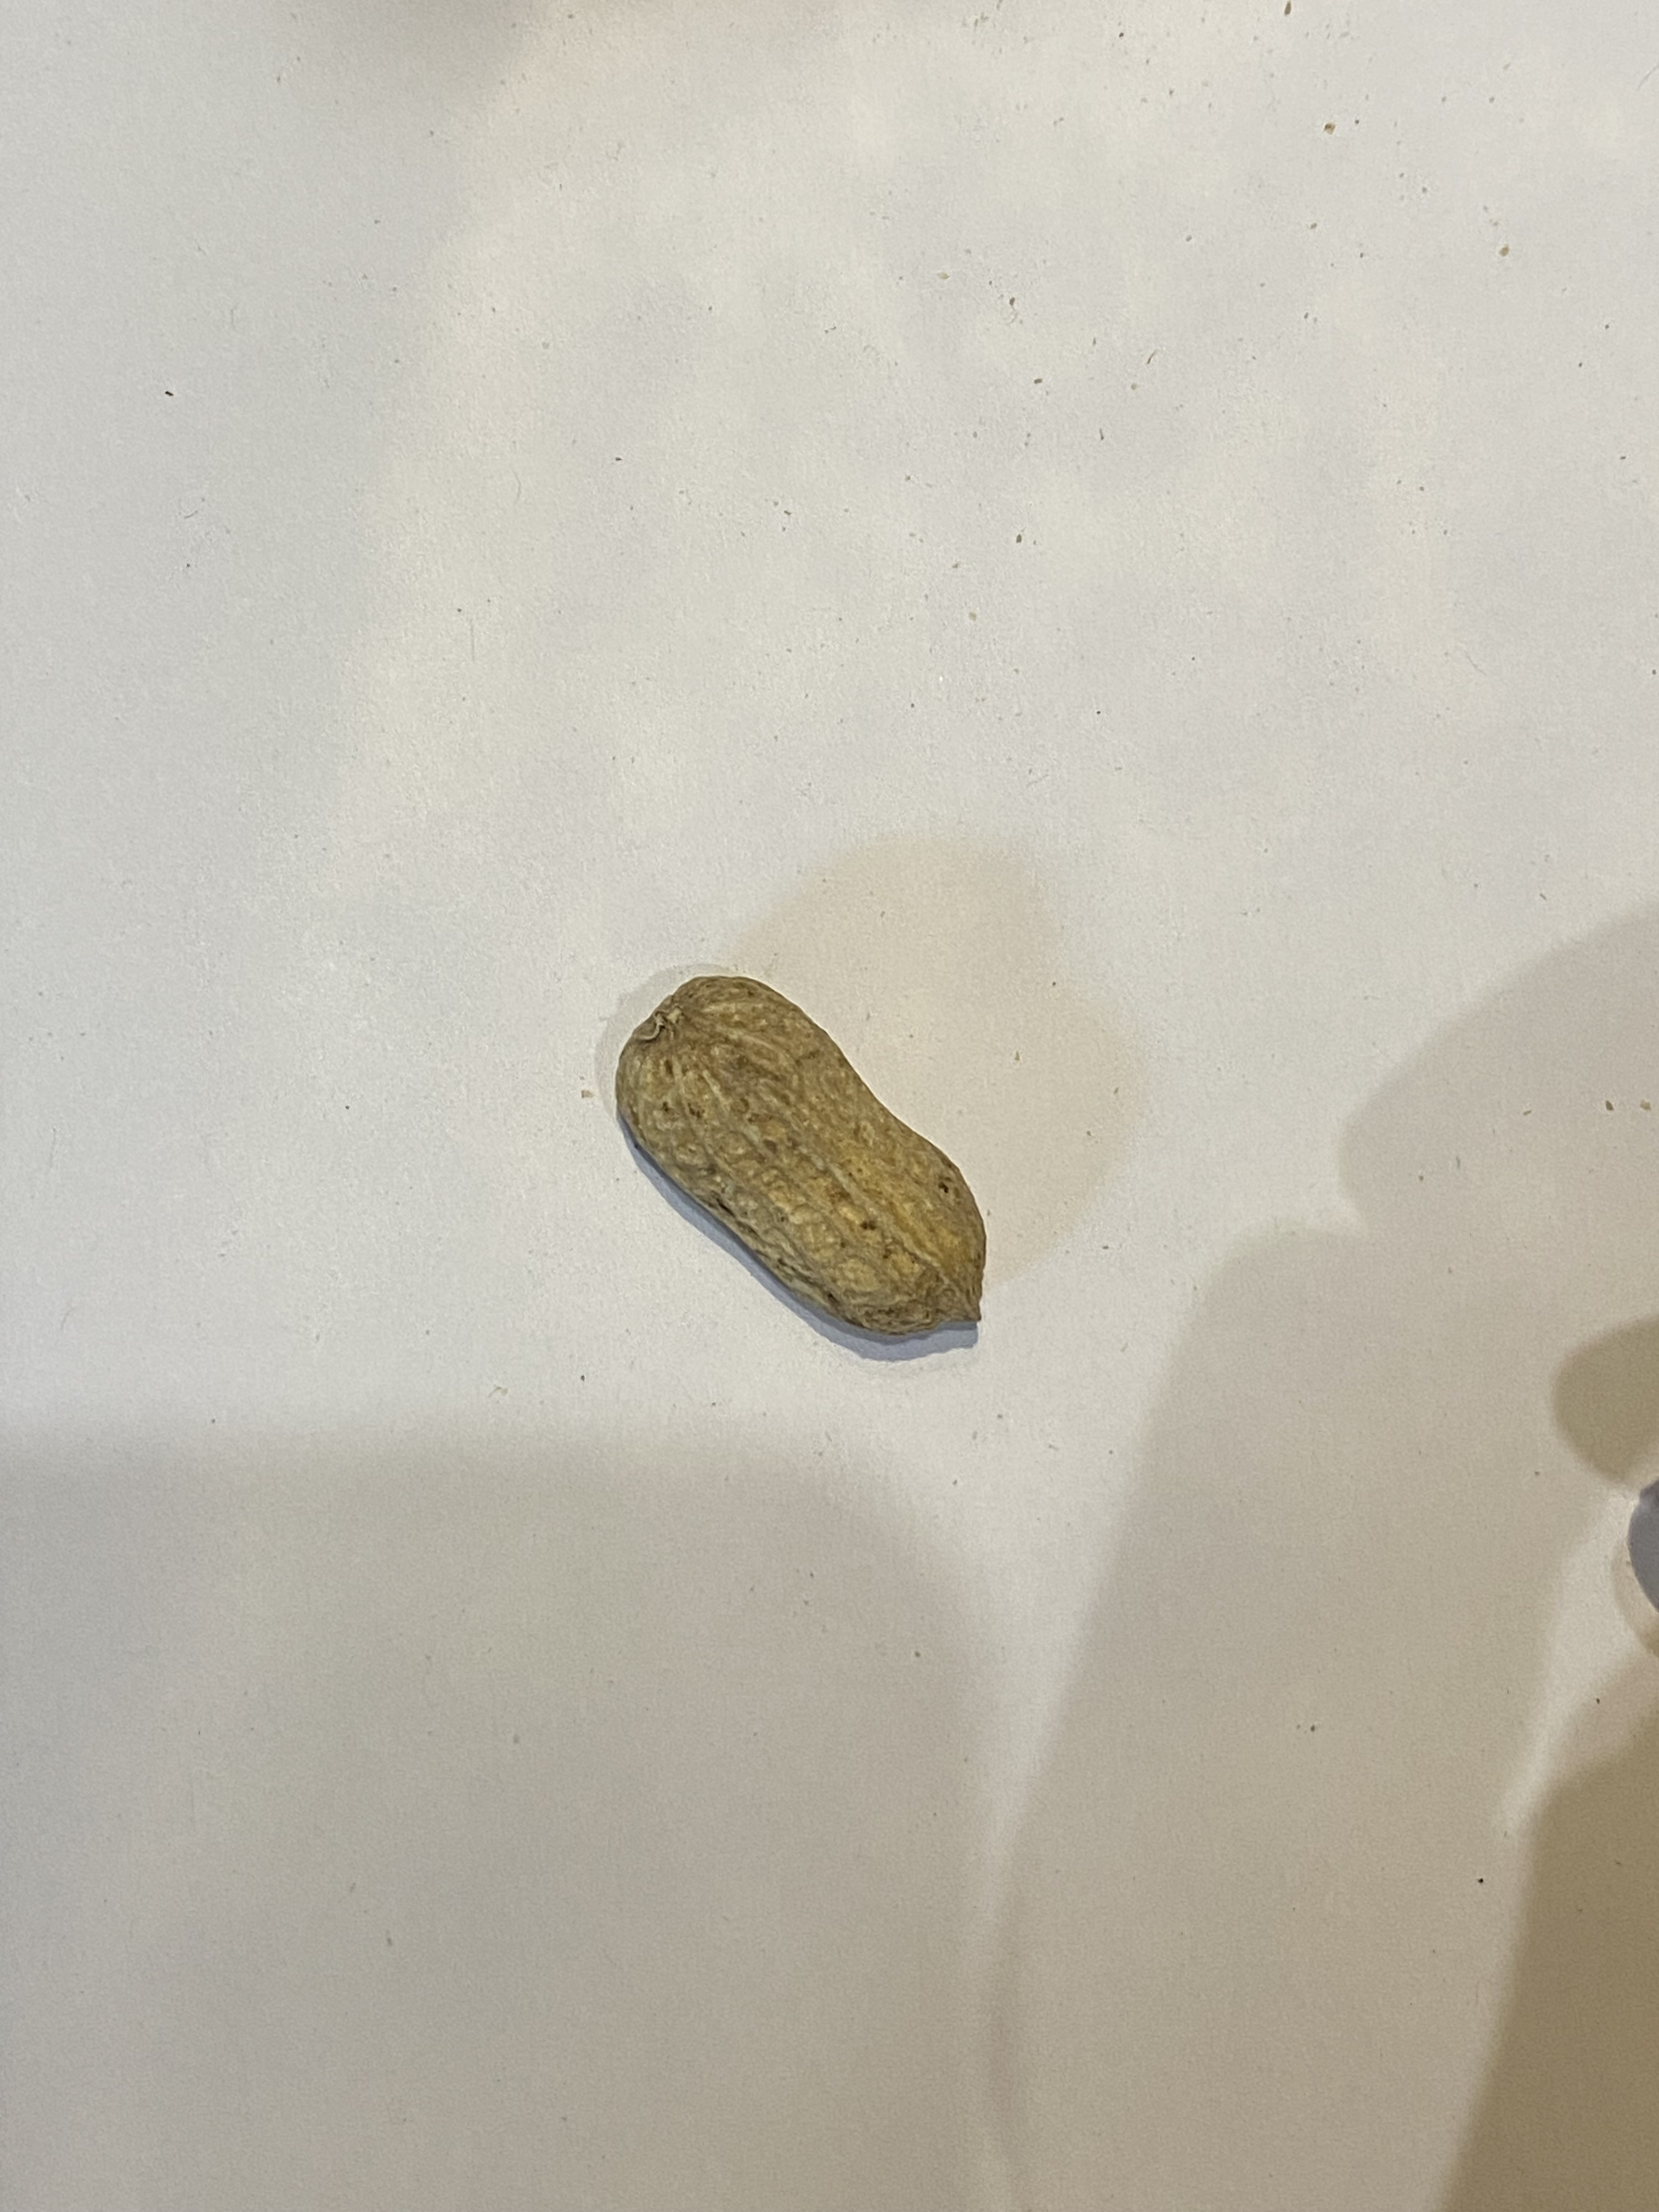kacang2: (587, 961, 1016, 1353)
